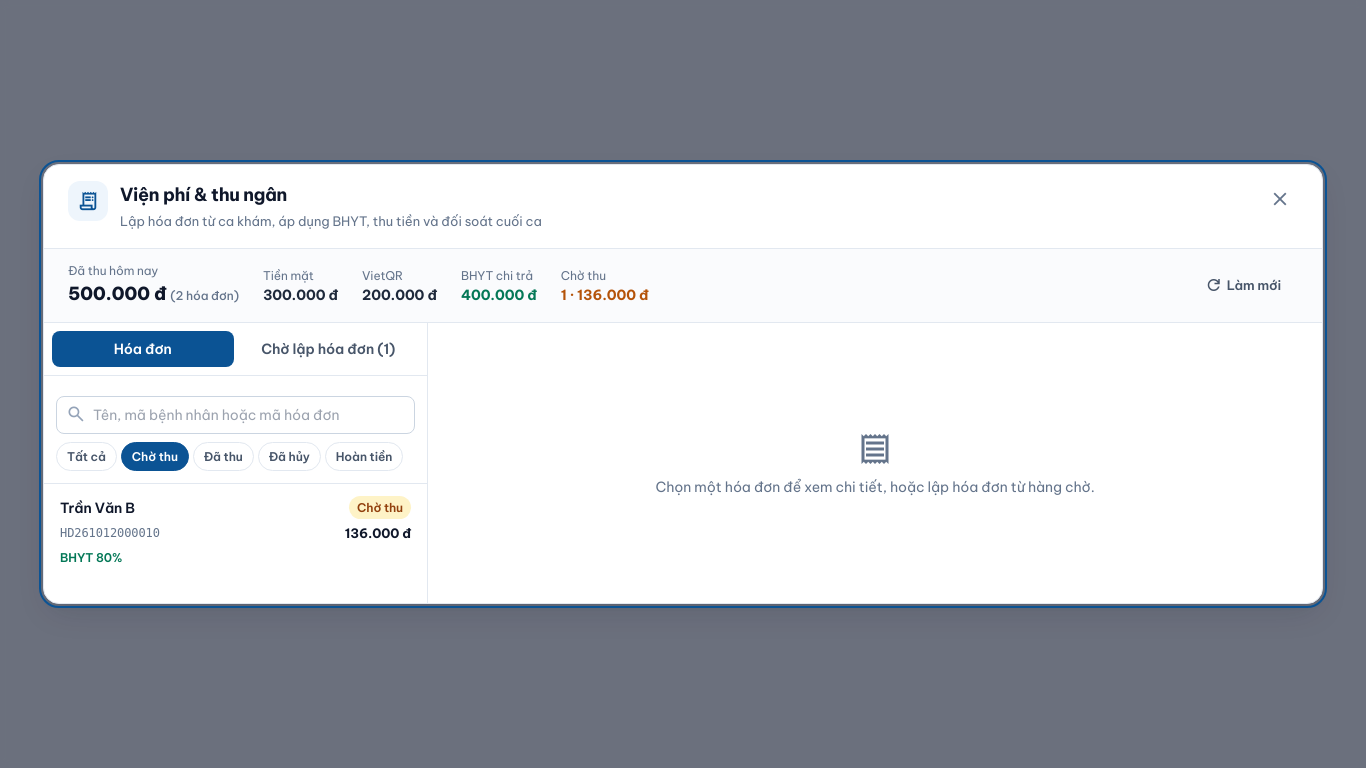
Test: Viện phí – giao diện thu ngân › hàng chờ lập hóa đơn: lập hóa đơn từ ca khám đã hoàn tất
Click the tab "Chờ lập hóa đơn (1)": (328, 349) [238, 331, 419, 367]
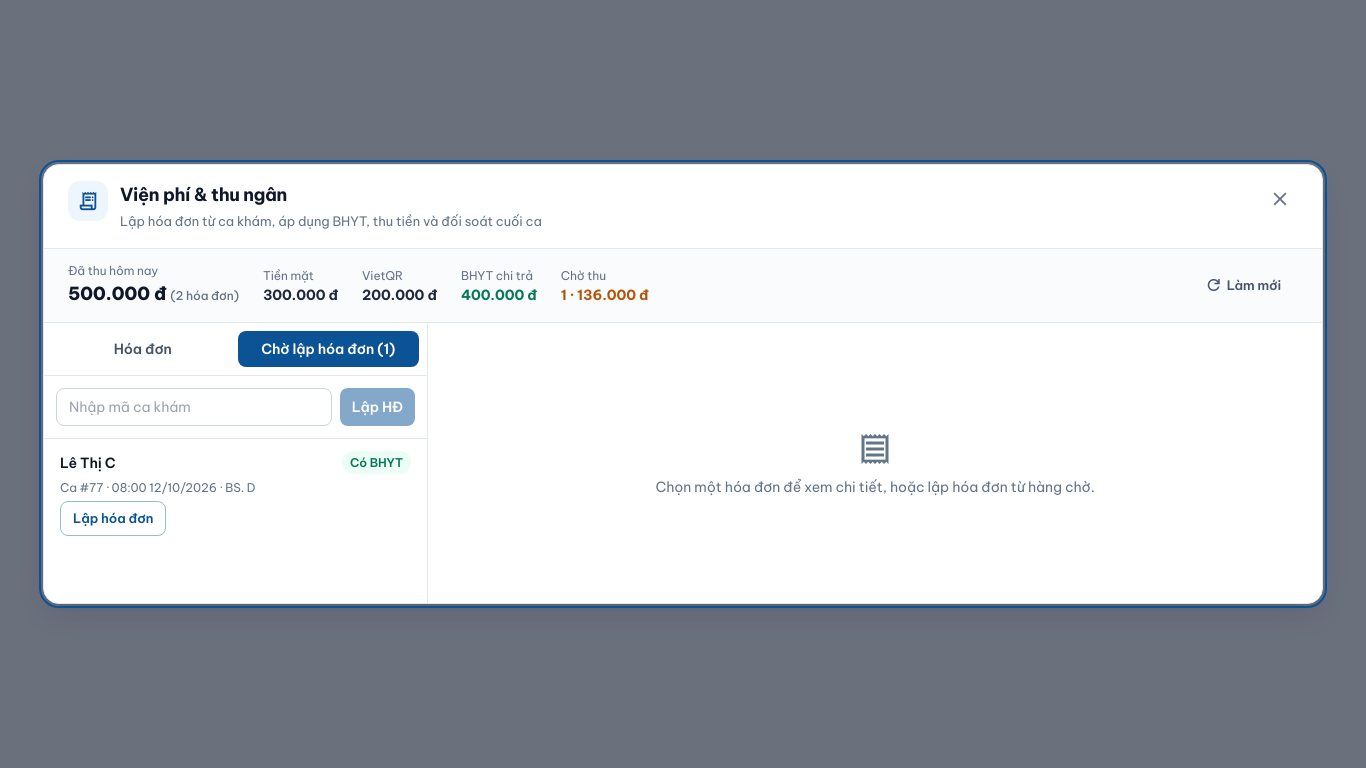
Now the text "Có BHYT" is shown, box [342, 451, 411, 474]
Click the button "Lập hóa đơn": (113, 519) [60, 501, 166, 536]
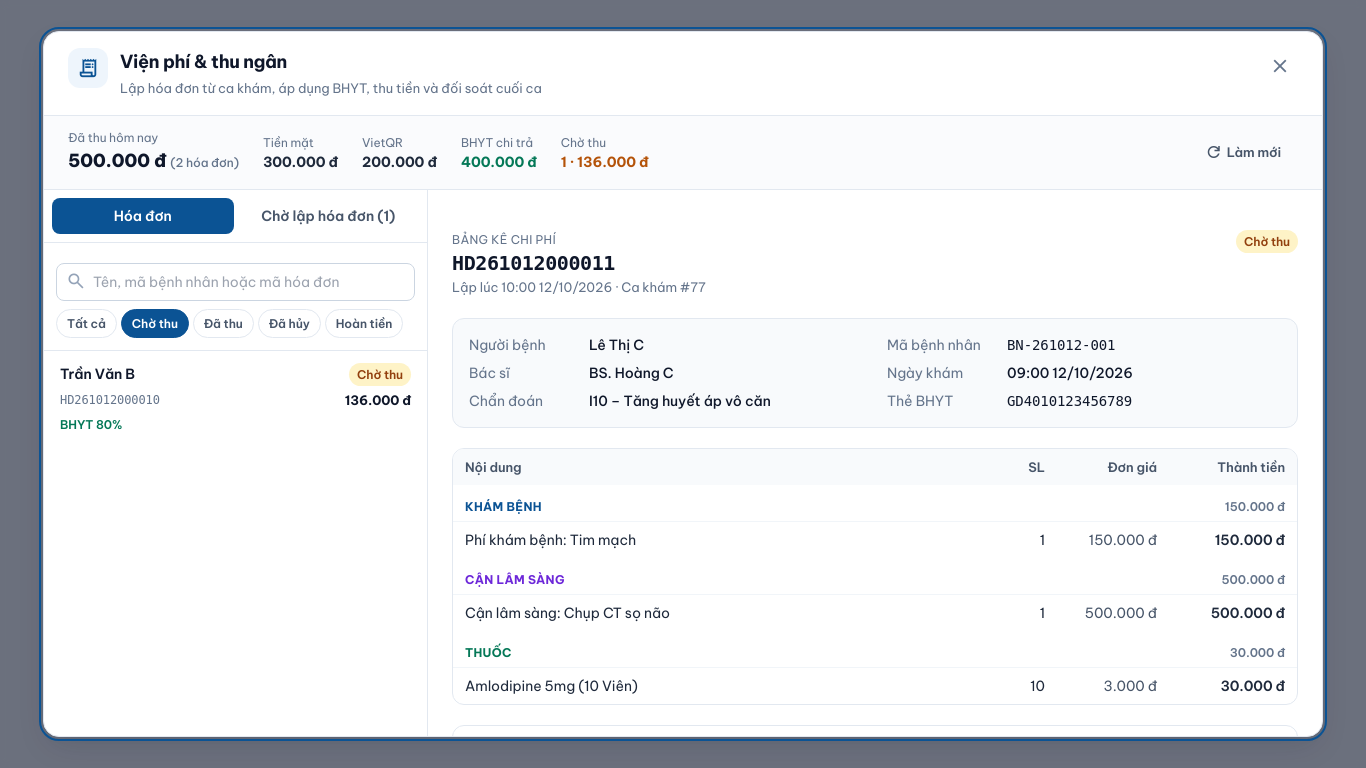
Now the heading "HD261012000011" is shown, box [452, 251, 615, 275]
